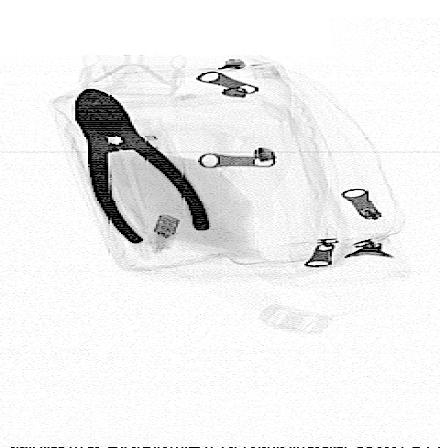Pliers: (73, 88, 211, 245)
